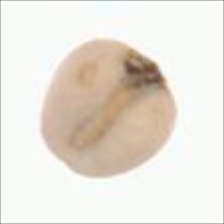L5: (69, 84, 138, 153), (121, 46, 169, 93)
L6: (38, 37, 180, 181)
